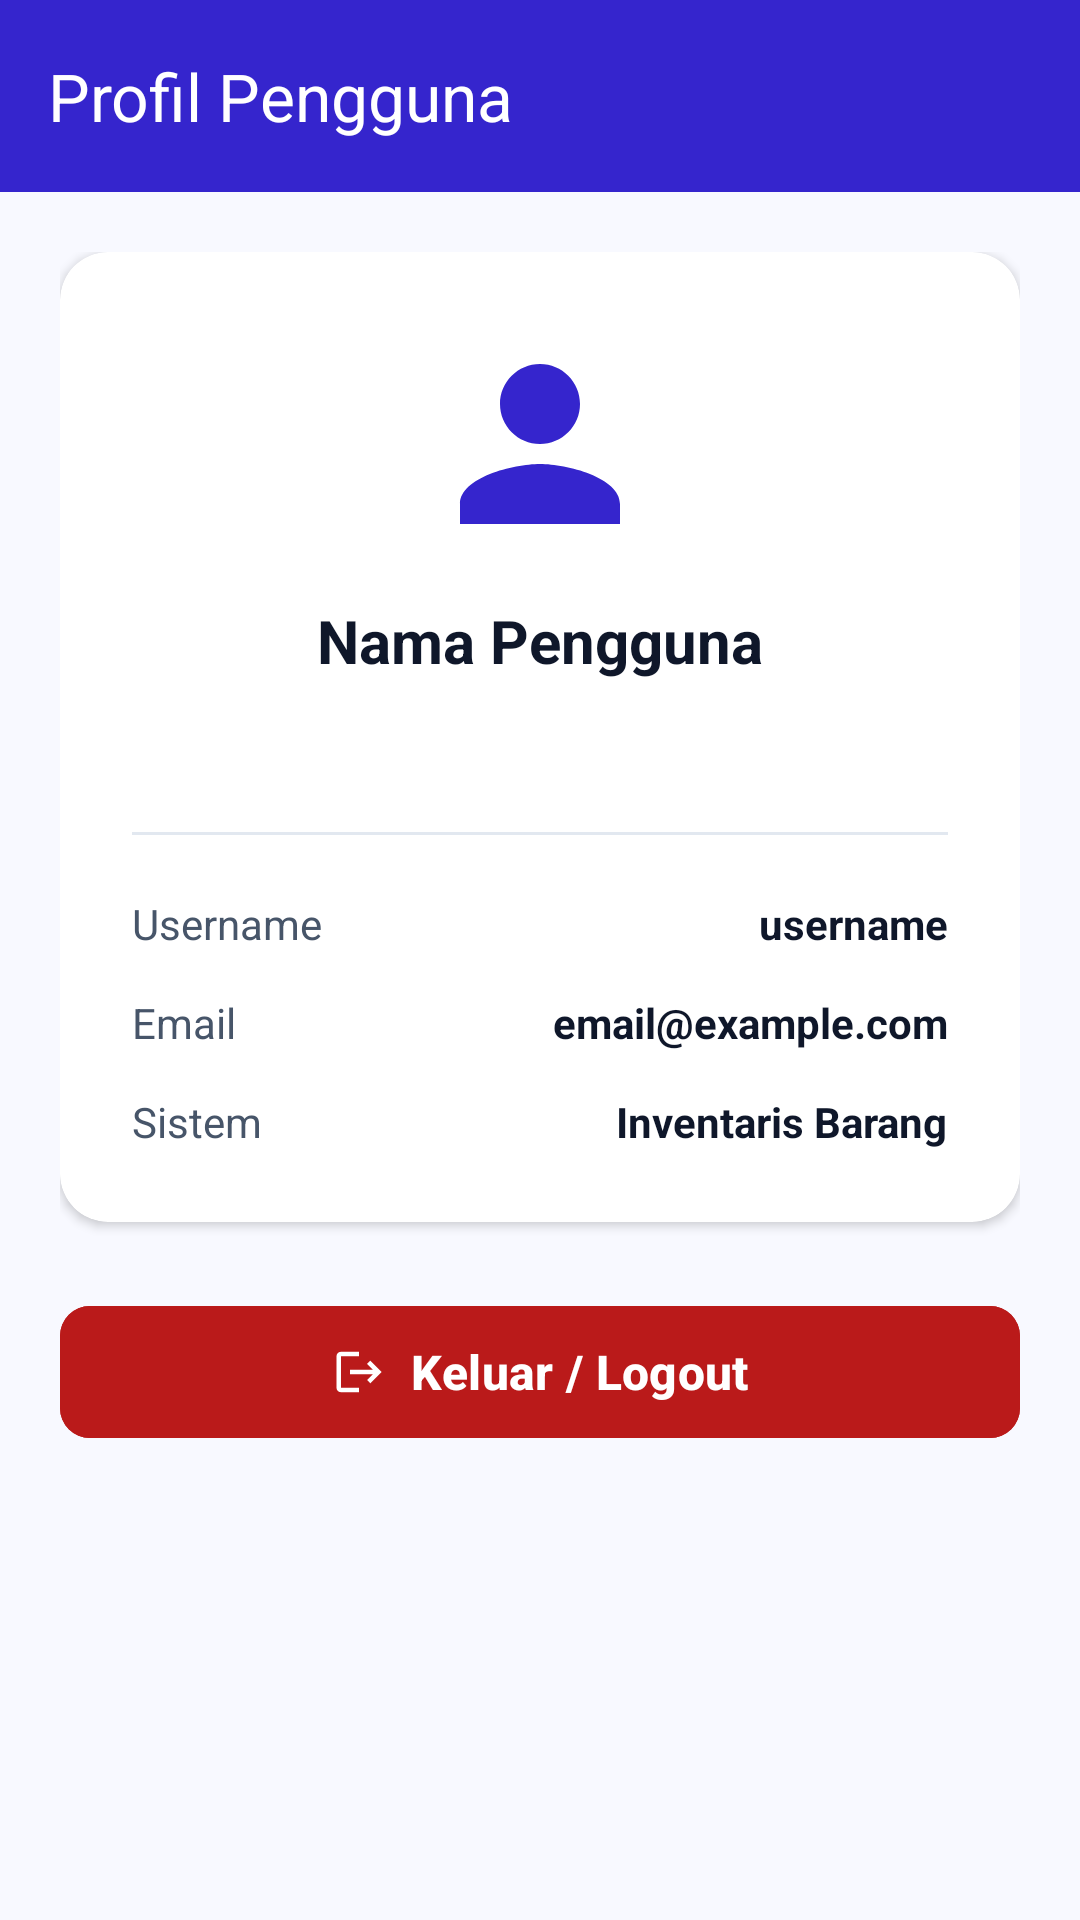

Screen size 1080 x 1920. Icon name, then its box in pixels as (left=x1, top=y1, right=x2, bottom=y2):
Avatar: (left=460, top=364, right=620, bottom=524)
